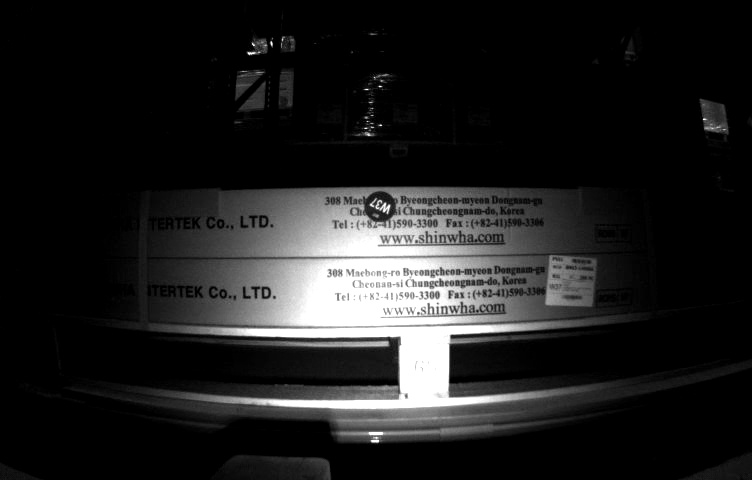True Barcode: (545, 253, 600, 306)
